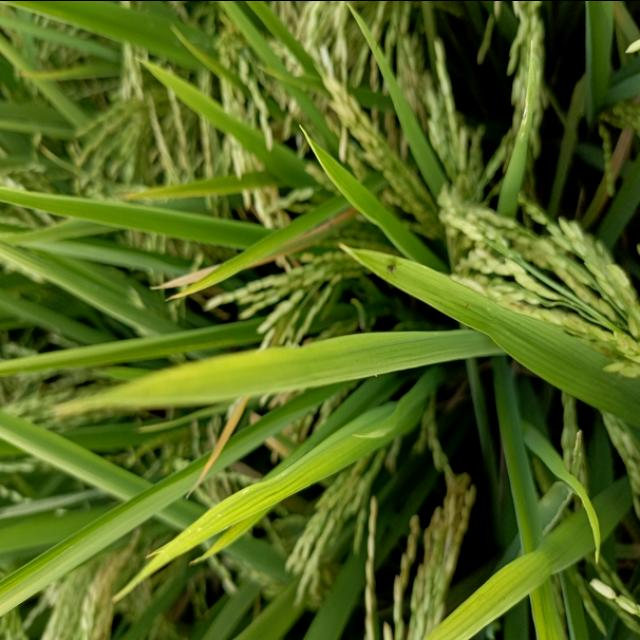Leaf scald: (381, 249, 398, 280)
